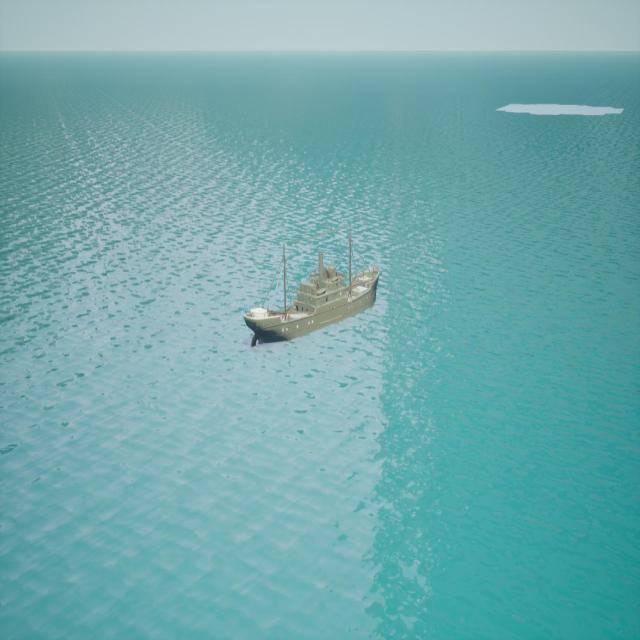fishing ship: (246, 240, 384, 345)
